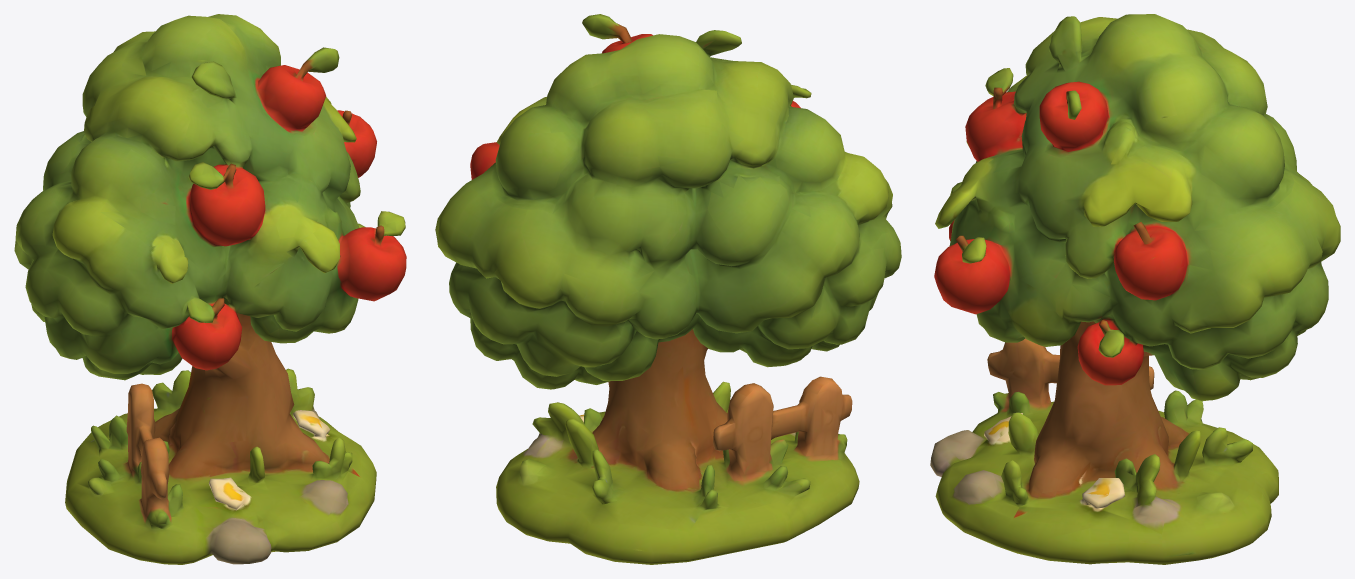
3 views of the same model, side by side, from view 1: azimuth 30°, elevation 25°; view 2: azimuth 150°, elevation 25°; view 3: azimuth 270°, elevation 25° (orthographic). The views are drawn at different scales.
Visible parts, largest first — view 1: tree-apple; view 2: tree-apple; view 3: tree-apple.
Part boxes in pixels (x1,y1,x2,y2): tree-apple: (14,14,406,564); tree-apple: (435,14,901,564); tree-apple: (930,14,1340,564).
Bounding box in the file's own units: 3.29 × 4 × 3.1.
Materials: 1 (1 with a texture image).
